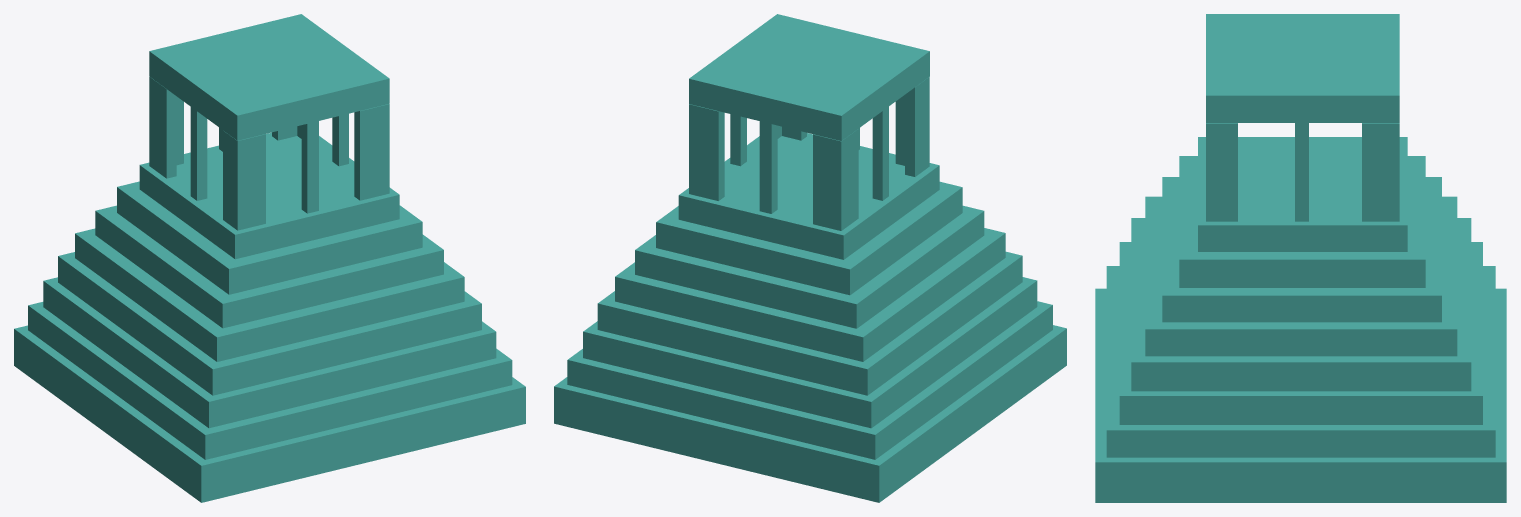
The picture shows the model from 3 angles, left to right: view 1: azimuth 30°, elevation 25°; view 2: azimuth 150°, elevation 25°; view 3: azimuth 270°, elevation 25°; orthographic projection. The views are drawn at different scales.
Visible parts, largest first — view 1: Object_2; view 2: Object_2; view 3: Object_2.
Part boxes in pixels (<box>): Object_2: <box>14,14,525,502</box>; Object_2: <box>554,14,1066,502</box>; Object_2: <box>1095,14,1506,502</box>.
Bounding box in the file's own units: 1 × 0.97 × 1.
